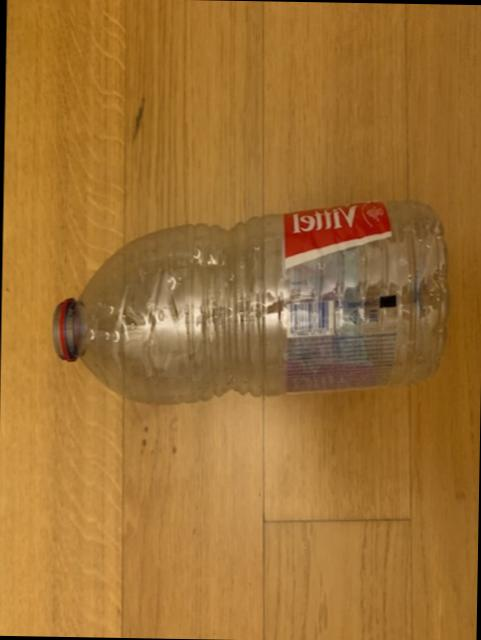plastic: (54, 199, 448, 401)
